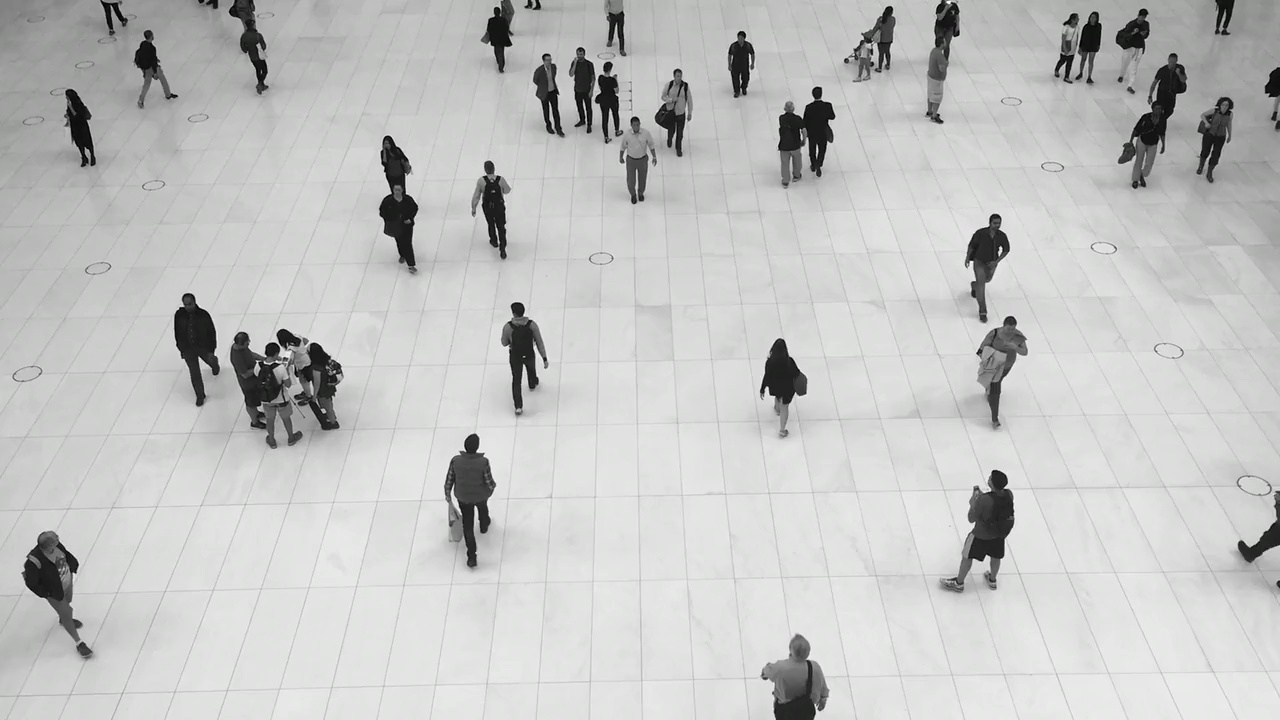person: (21, 532, 99, 659), (944, 469, 1015, 593), (444, 434, 496, 570), (761, 633, 832, 720), (977, 317, 1029, 432), (173, 293, 222, 407), (502, 302, 551, 415), (255, 344, 301, 447), (759, 338, 807, 436), (966, 213, 1009, 322), (301, 343, 349, 432), (471, 161, 513, 260), (377, 185, 420, 277), (227, 332, 264, 428), (618, 117, 658, 203), (134, 30, 177, 108), (1196, 98, 1234, 183), (1129, 103, 1166, 189), (533, 54, 568, 137), (804, 87, 836, 177), (1118, 8, 1149, 97), (64, 89, 98, 166), (239, 18, 273, 94), (778, 101, 804, 190), (926, 36, 951, 126), (726, 30, 756, 99), (482, 7, 513, 73), (1152, 53, 1188, 103), (377, 136, 413, 183), (874, 6, 898, 73), (601, 1, 630, 56), (1081, 10, 1102, 84), (1056, 12, 1076, 84)
